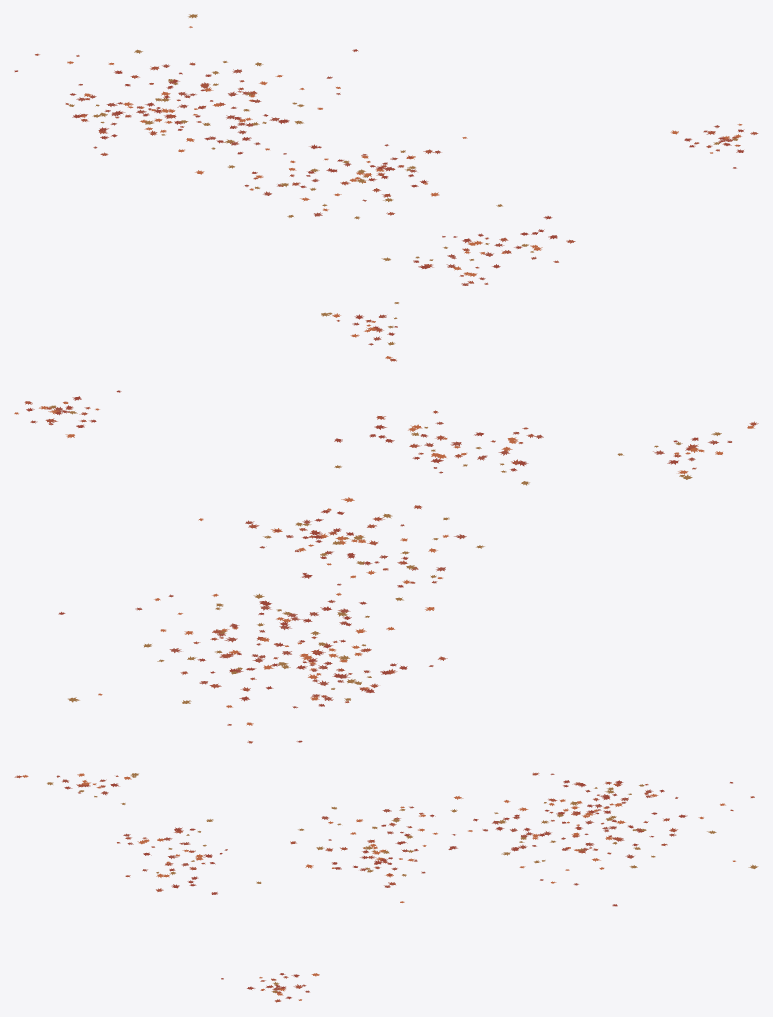
The model's file is fallen_maple.gltf.
3 renders of one model, top to bottom at view 1: azimuth 30°, elevation 25°; view 2: azimuth 150°, elevation 25°; view 3: azimuth 270°, elevation 25°, orthographic. The views are drawn at different scales.
Visible parts, largest first — view 1: fallen_maple; view 2: fallen_maple; view 3: fallen_maple.
Boxes of the visible parts, left/top/right/bottom form: fallen_maple: left=14, top=14, right=758, bottom=361; fallen_maple: left=14, top=390, right=758, bottom=743; fallen_maple: left=14, top=772, right=758, bottom=1002.
Size of the model in its own units: 6.46 by 0.0018 by 8.84.
